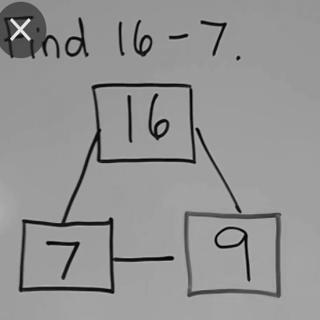.: (233, 52, 243, 62)
1: (122, 93, 134, 146), (115, 19, 126, 56)
6: (147, 92, 171, 140), (132, 18, 153, 57)
7: (41, 238, 83, 282), (198, 17, 227, 55)
9: (214, 224, 252, 282)
